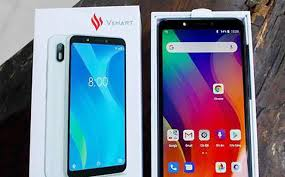vsmart: (153, 12, 258, 177), (67, 30, 127, 177)
